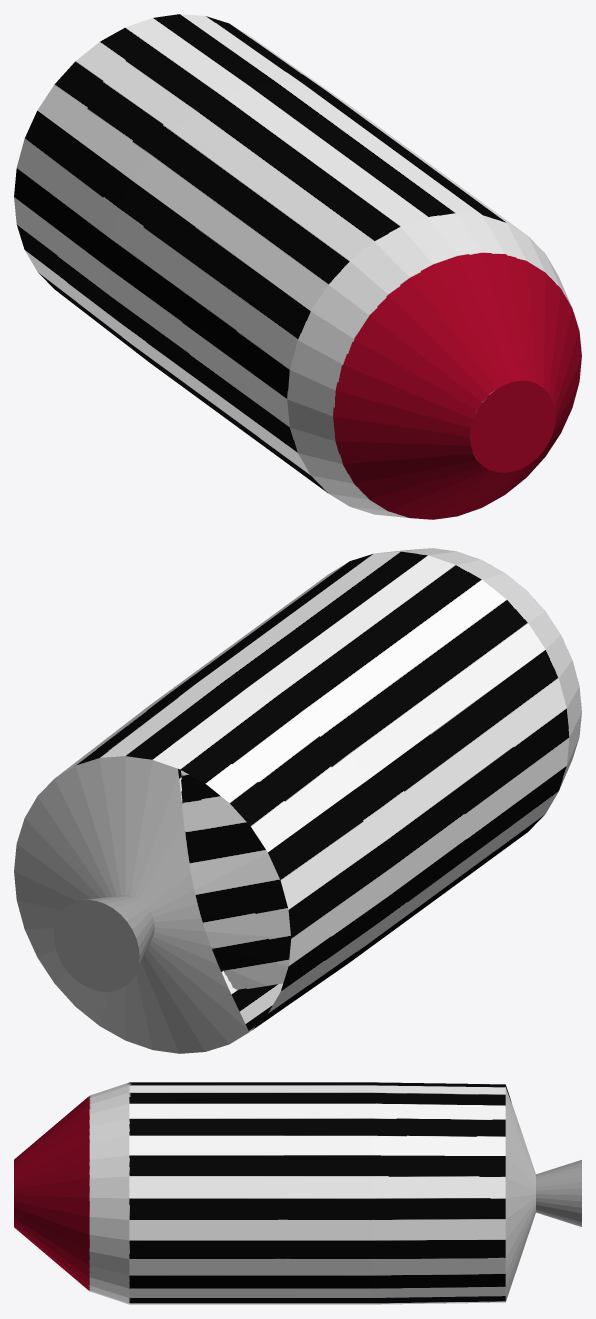
The model's file is ship.obj.
The picture shows the model from 3 angles, top to bottom: view 1: azimuth 30°, elevation 25°; view 2: azimuth 150°, elevation 25°; view 3: azimuth 270°, elevation 25°; orthographic projection. The views are drawn at different scales.
Parts seen in each view (by area): view 1: Cylinder; view 2: Cylinder; view 3: Cylinder.
Part boxes in pixels (x1,y1,x2,y2): Cylinder: [14, 14, 581, 519]; Cylinder: [14, 548, 581, 1053]; Cylinder: [14, 1082, 581, 1304].
Size of the model in its own units: 4.98 by 4.98 by 12.73.
